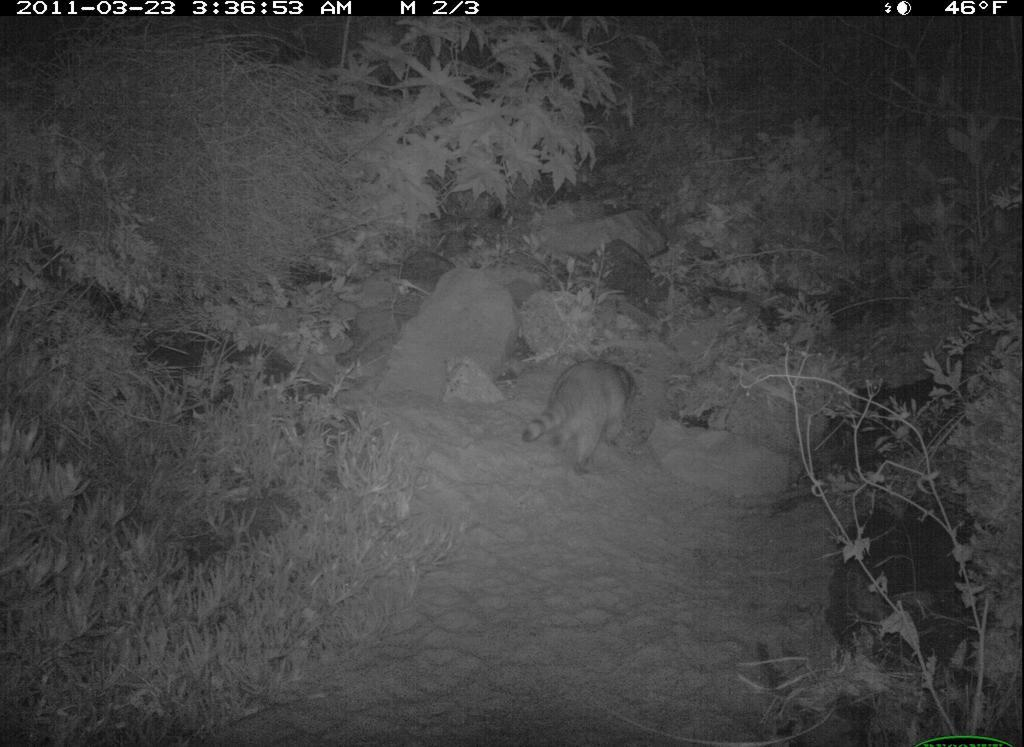raccoon: (519, 350, 649, 486)
